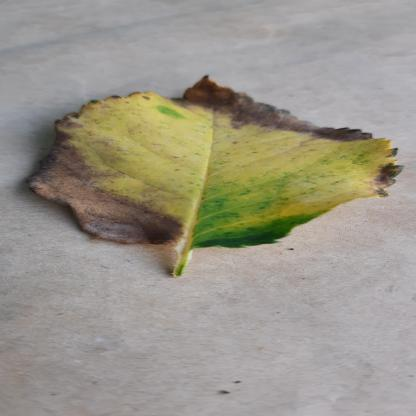black-spot: (25, 74, 405, 249)
